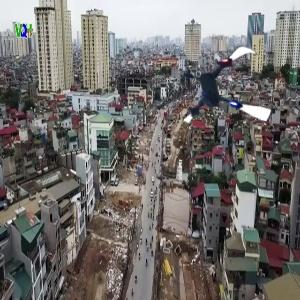drone: (175, 37, 280, 142)
